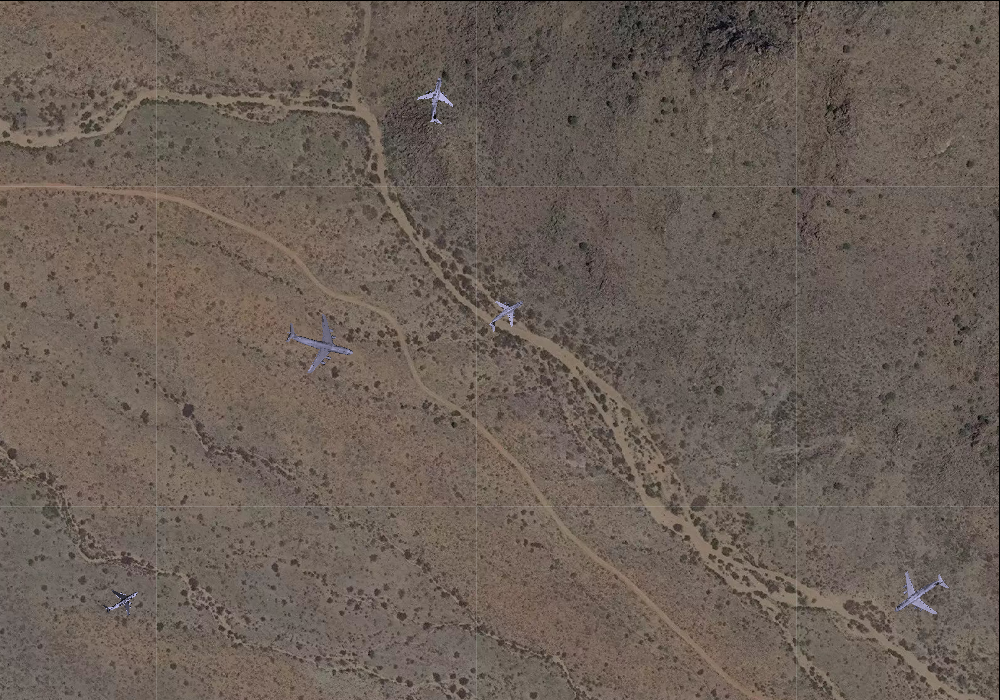plane: (277, 302, 361, 383), (879, 555, 960, 636), (478, 287, 534, 341), (411, 72, 463, 127), (96, 577, 145, 626)
